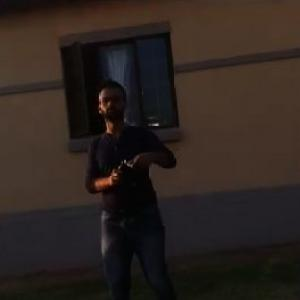follow: (74, 67, 192, 299)
